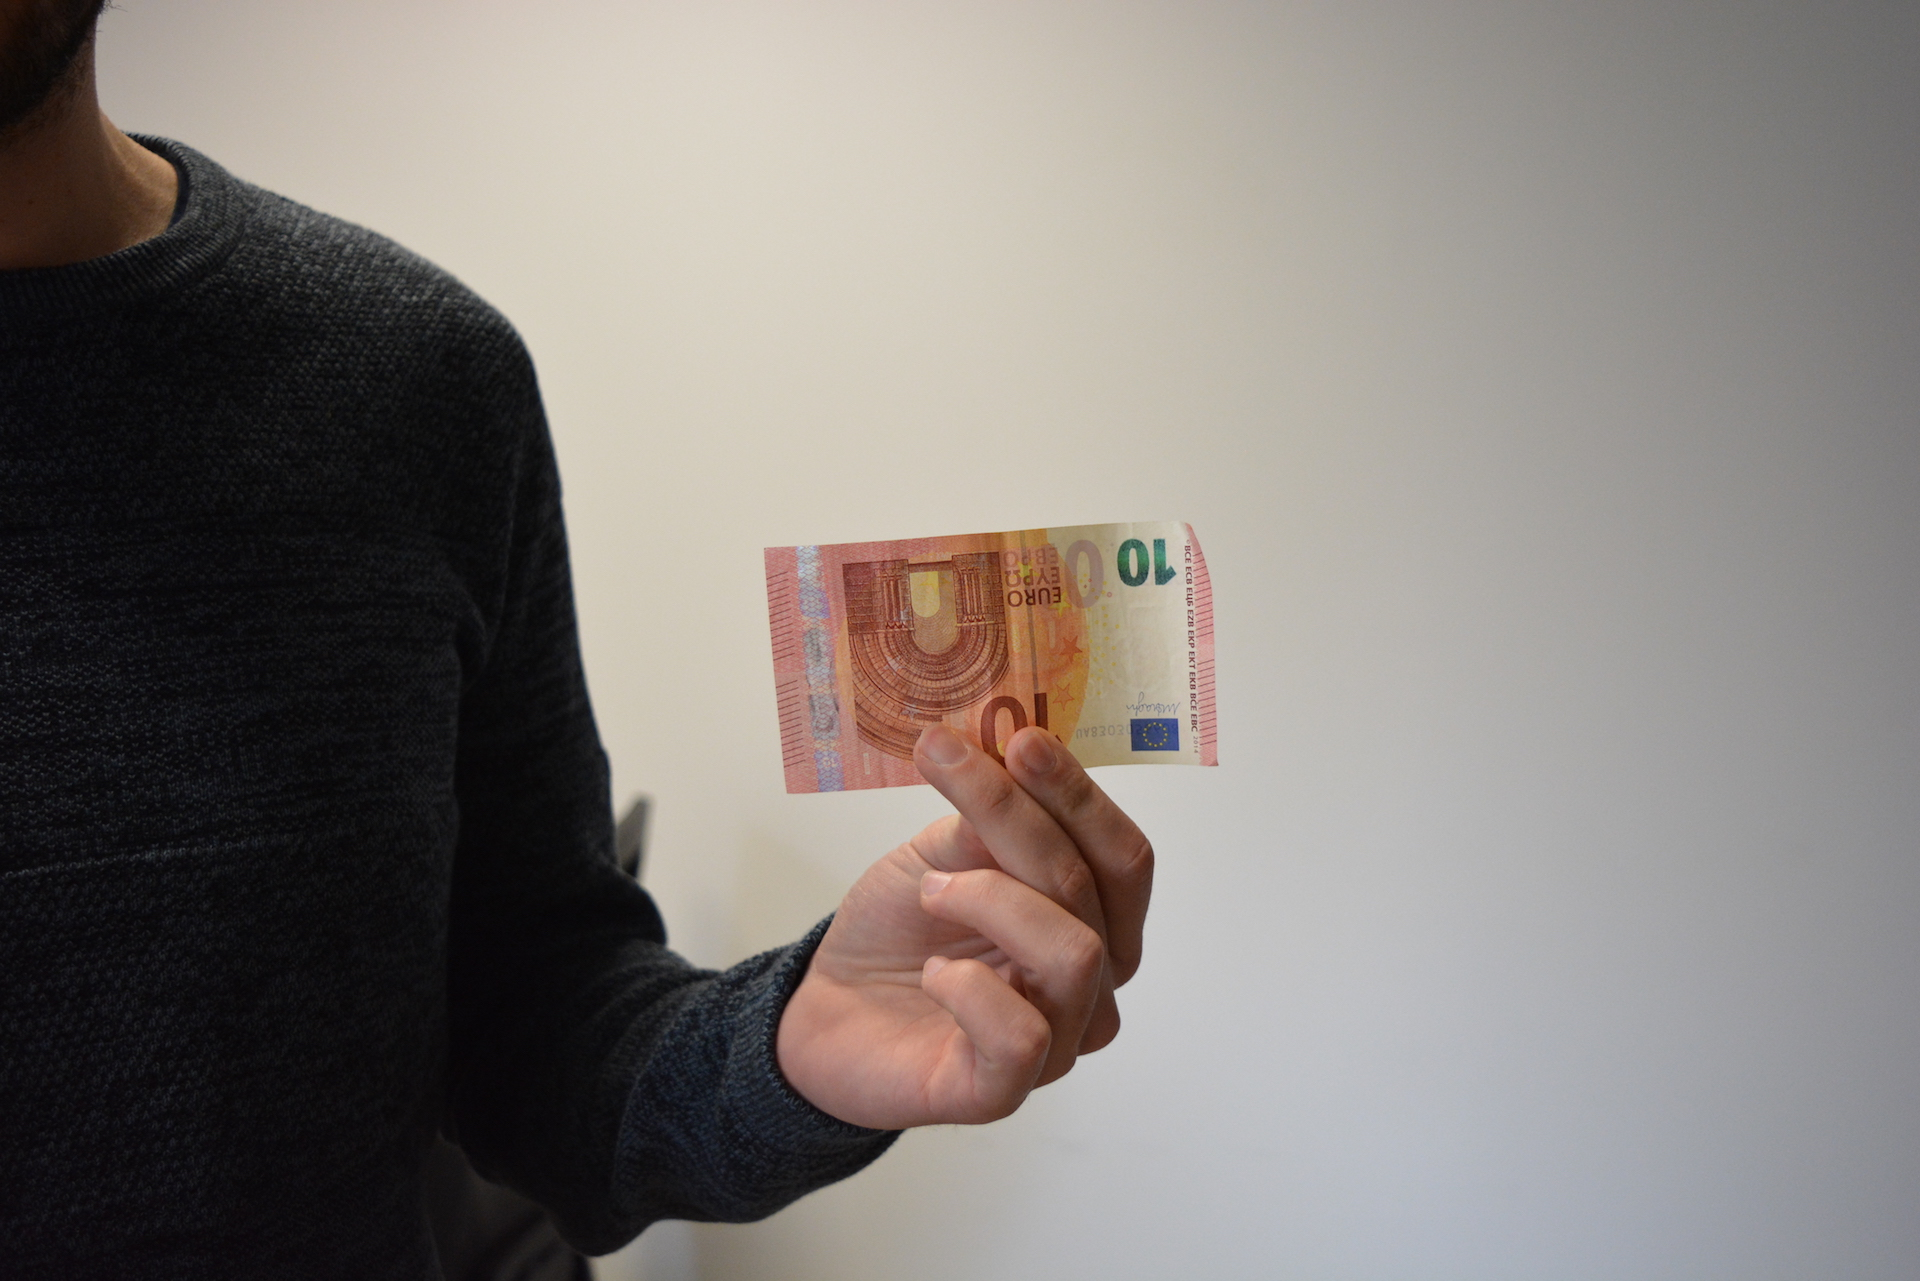billete: (762, 518, 1221, 796)
